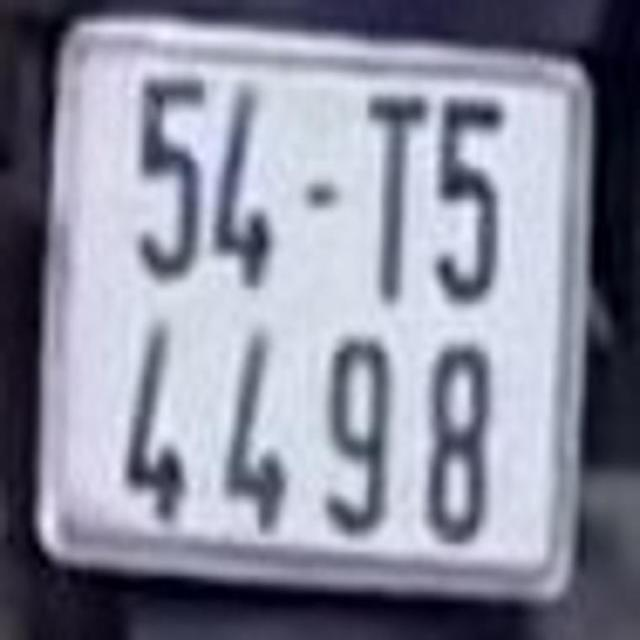4: (121, 316, 190, 524), (222, 330, 286, 532), (214, 84, 272, 290)
5: (134, 74, 204, 280), (438, 96, 503, 303)
8: (428, 344, 490, 544)
9: (326, 336, 388, 533)
T: (366, 95, 427, 302)
